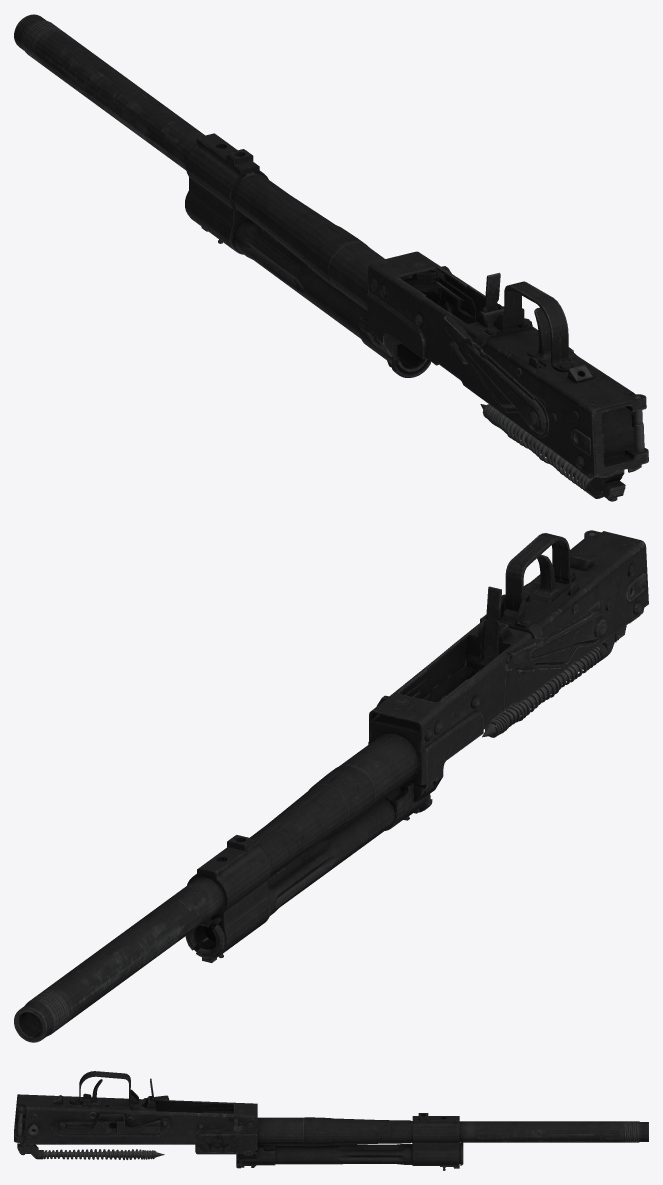
3 renders of one model, top to bottom at view 1: azimuth 30°, elevation 25°; view 2: azimuth 150°, elevation 25°; view 3: azimuth 270°, elevation 25°, orthographic. The views are drawn at different scales.
Visible parts, largest first — view 1: TW_674fe9a75e51f1c47c04ec23_PZ_Import; view 2: TW_674fe9a75e51f1c47c04ec23_PZ_Import; view 3: TW_674fe9a75e51f1c47c04ec23_PZ_Import.
Boxes of the visible parts, box(x1,y1,x2,y2) form: TW_674fe9a75e51f1c47c04ec23_PZ_Import: box(14, 14, 648, 501); TW_674fe9a75e51f1c47c04ec23_PZ_Import: box(14, 530, 648, 1042); TW_674fe9a75e51f1c47c04ec23_PZ_Import: box(14, 1071, 648, 1170).
Size of the model in its own units: 0.0284 by 0.3875 by 0.0657.
Materials: 1 (1 with a texture image).
